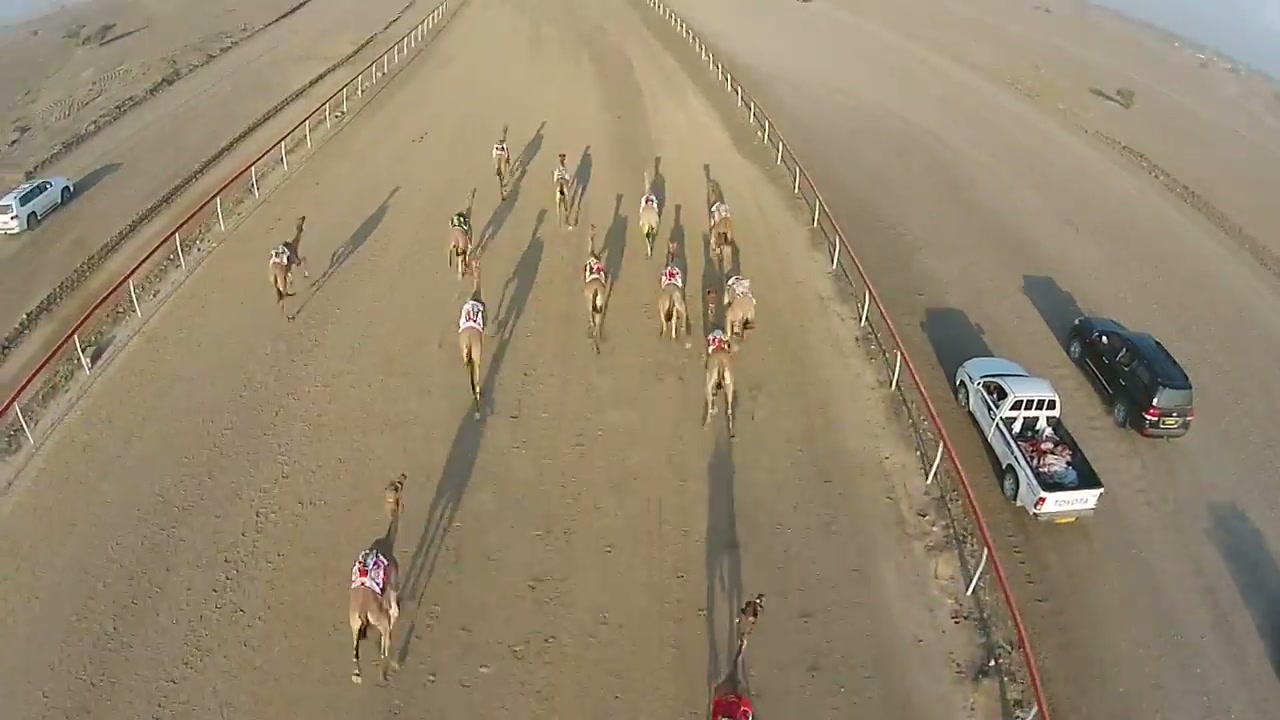animal_foot_print: (98, 338, 357, 709), (402, 378, 666, 708)
